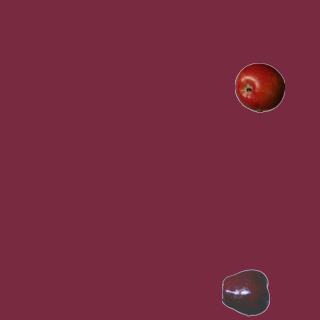Apple Braeburn: (234, 62, 284, 112)
Apple Red Delicious: (221, 267, 271, 317)
